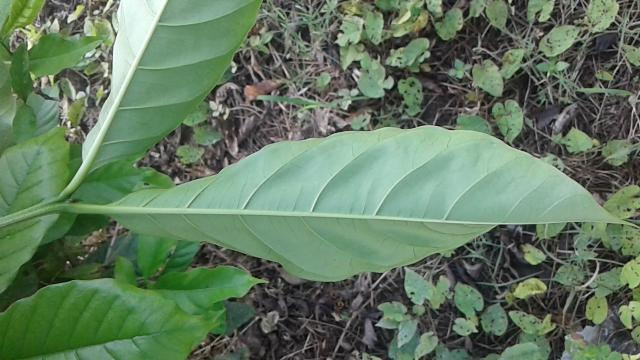healthy: (93, 122, 640, 286)
